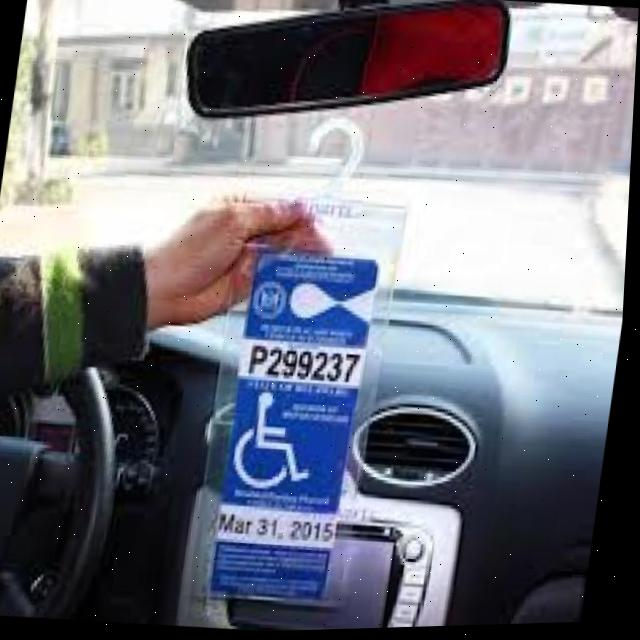symbol_of_access: (229, 388, 325, 498)
